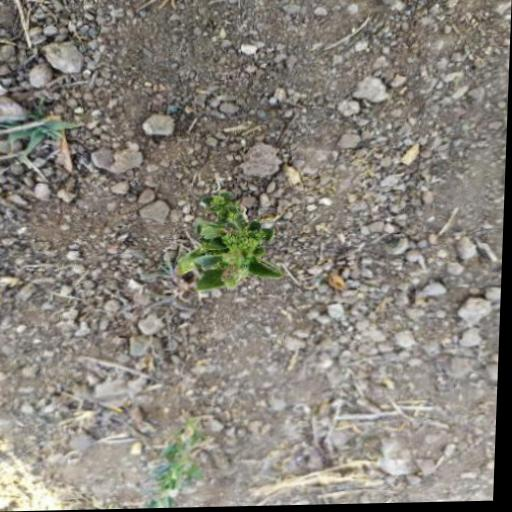weed: (174, 191, 287, 302)
